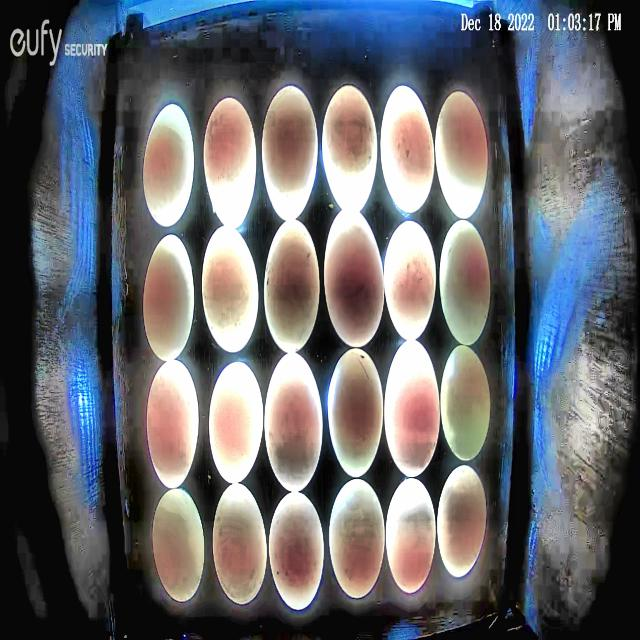UF: (323, 208, 385, 349), (264, 351, 324, 494), (383, 338, 441, 478), (261, 85, 319, 221), (263, 219, 320, 354), (200, 223, 259, 353), (326, 346, 384, 478), (321, 84, 378, 214), (203, 96, 258, 229), (380, 84, 436, 214), (328, 477, 386, 599), (146, 359, 200, 490), (207, 359, 263, 484), (212, 482, 268, 606), (142, 233, 195, 362), (436, 88, 488, 219), (439, 219, 492, 347), (268, 492, 325, 610), (142, 102, 195, 228), (382, 220, 437, 341), (152, 488, 206, 604), (386, 476, 437, 594), (440, 344, 491, 461), (437, 462, 487, 580)
